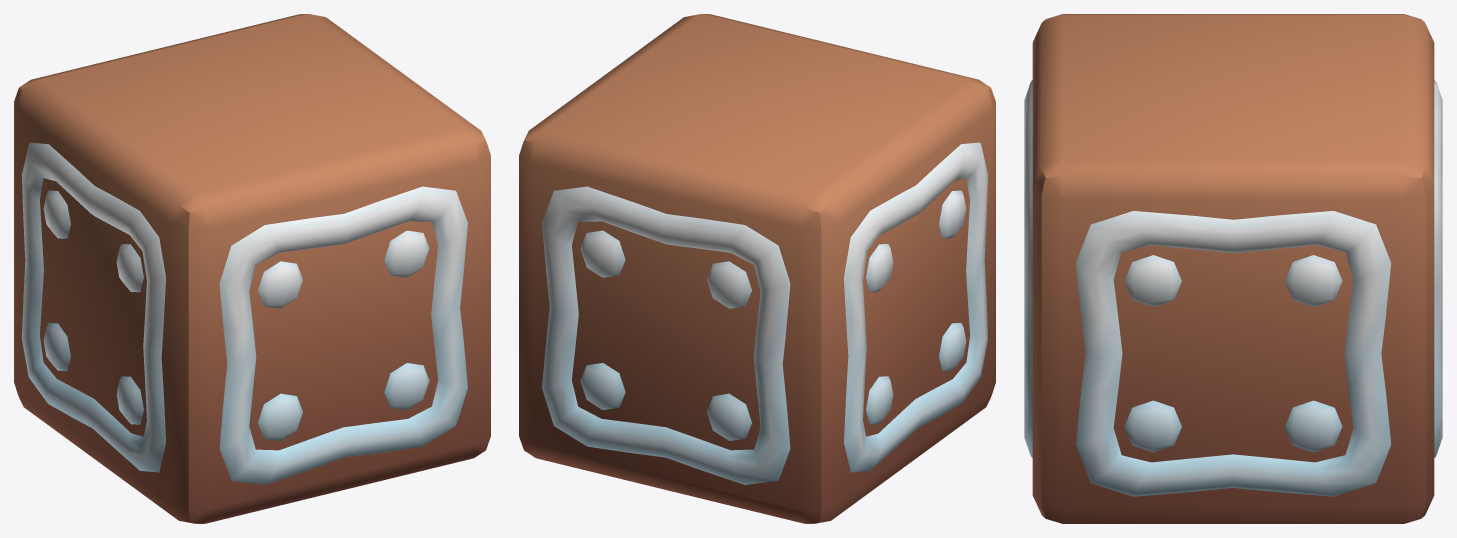
File: cube_gingerbread_small_A.obj
The picture shows the model from 3 angles, left to right: view 1: azimuth 30°, elevation 25°; view 2: azimuth 150°, elevation 25°; view 3: azimuth 270°, elevation 25°; orthographic projection. The views are drawn at different scales.
Visible parts, largest first — view 1: cube_gingerbread_small_A; view 2: cube_gingerbread_small_A; view 3: cube_gingerbread_small_A.
Part boxes in pixels (box(x1,y1,x2,y2)): cube_gingerbread_small_A: box(14, 14, 490, 523); cube_gingerbread_small_A: box(519, 14, 995, 523); cube_gingerbread_small_A: box(1024, 14, 1442, 523).
Size of the model in its own units: 2.08 by 2 by 2.08.
1 material, 1 textured.
